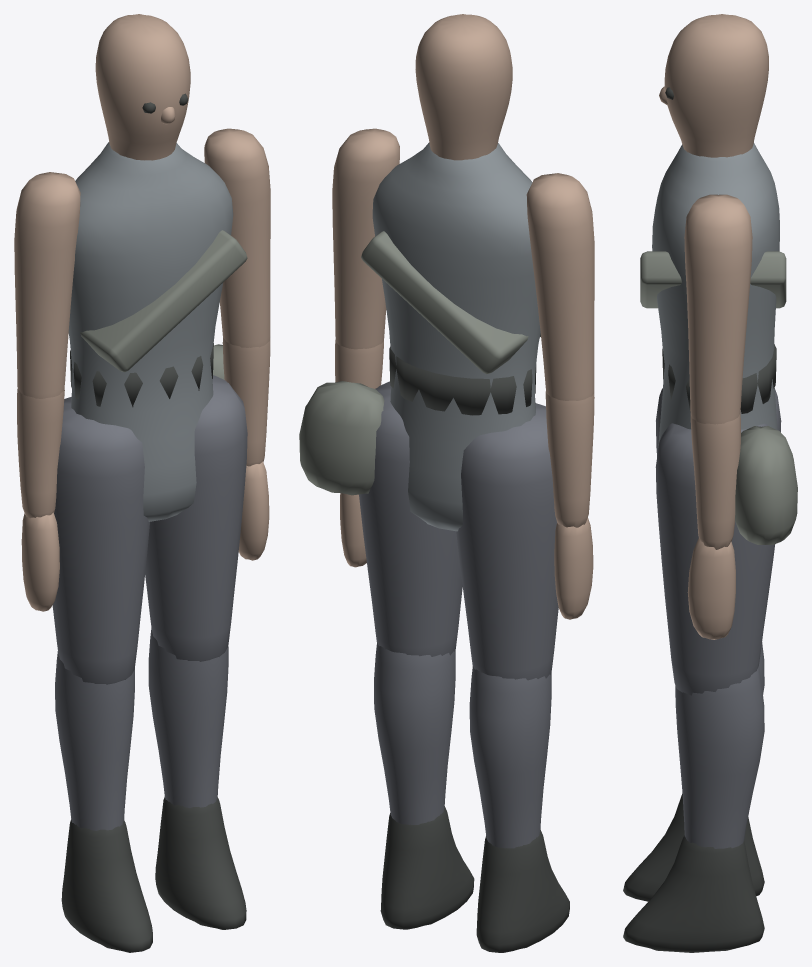
Rendered from resident_d_v5.glb.
3 renders of one model, left to right at view 1: azimuth 30°, elevation 25°; view 2: azimuth 150°, elevation 25°; view 3: azimuth 270°, elevation 25°, orthographic. The views are drawn at different scales.
Parts seen in each view (by area): view 1: Resident_Torso, Resident_Leg_-1, Resident_Leg_1, Resident_Arm_-1, Resident_Head, Resident_Shin_1, Resident_Shin_-1, Resident_Arm_1, Resident_Boot_1, Resident_Boot_-1, Resident_SatchelStrap, Resident_Forearm_-1 (+4 smaller); view 2: Resident_Torso, Resident_Leg_-1, Resident_Leg_1, Resident_Arm_-1, Resident_Shin_-1, Resident_Shin_1, Resident_Head, Resident_Arm_1, Resident_Boot_-1, Resident_Boot_1, Resident_Satchel, Resident_SatchelStrap (+5 smaller); view 3: Resident_Torso, Resident_Leg_1, Resident_Arm_1, Resident_Shin_1, Resident_Head, Resident_Boot_1, Resident_Satchel, Resident_Forearm_1, Resident_Hand_1, Resident_Boot_-1, Resident_SatchelStrap, Resident_Belt (+1 smaller).
Boxes of the visible parts, x1=… form: Resident_Torso: x1=68, y1=142, x2=233, y2=521; Resident_Leg_-1: x1=52, y1=397, x2=149, y2=684; Resident_Leg_1: x1=145, y1=375, x2=247, y2=661; Resident_Arm_-1: x1=14, y1=172, x2=80, y2=398; Resident_Head: x1=95, y1=14, x2=190, y2=160; Resident_Shin_1: x1=148, y1=628, x2=228, y2=807; Resident_Shin_-1: x1=55, y1=651, x2=134, y2=830; Resident_Arm_1: x1=204, y1=128, x2=270, y2=347; Resident_Boot_1: x1=155, y1=796, x2=246, y2=929; Resident_Boot_-1: x1=61, y1=819, x2=152, y2=952; Resident_SatchelStrap: x1=80, y1=230, x2=247, y2=372; Resident_Forearm_-1: x1=17, y1=388, x2=64, y2=518; Resident_Torso: x1=372, y1=142, x2=540, y2=531; Resident_Leg_-1: x1=456, y1=403, x2=558, y2=680; Resident_Leg_1: x1=359, y1=381, x2=462, y2=656; Resident_Arm_-1: x1=526, y1=173, x2=594, y2=400; Resident_Shin_-1: x1=469, y1=666, x2=551, y2=848; Resident_Shin_1: x1=374, y1=642, x2=455, y2=824; Resident_Head: x1=415, y1=14, x2=512, y2=160; Resident_Arm_1: x1=332, y1=128, x2=399, y2=349; Resident_Boot_-1: x1=476, y1=829, x2=569, y2=952; Resident_Boot_1: x1=380, y1=806, x2=474, y2=929; Resident_Satchel: x1=299, y1=381, x2=384, y2=495; Resident_SatchelStrap: x1=361, y1=231, x2=540, y2=374; Resident_Torso: x1=652, y1=142, x2=779, y2=447; Resident_Leg_1: x1=655, y1=423, x2=775, y2=695; Resident_Arm_1: x1=684, y1=194, x2=752, y2=424; Resident_Shin_1: x1=675, y1=666, x2=764, y2=848; Resident_Head: x1=664, y1=14, x2=768, y2=157; Resident_Boot_1: x1=623, y1=835, x2=764, y2=952; Resident_Satchel: x1=735, y1=426, x2=797, y2=544; Resident_Forearm_1: x1=690, y1=413, x2=740, y2=549; Resident_Hand_1: x1=687, y1=538, x2=735, y2=639; Resident_Boot_-1: x1=623, y1=793, x2=764, y2=901; Resident_SatchelStrap: x1=640, y1=251, x2=786, y2=308; Resident_Belt: x1=662, y1=344, x2=776, y2=413.
Bounding box in the file's own units: 0.5456 × 1.79 × 0.3158.
